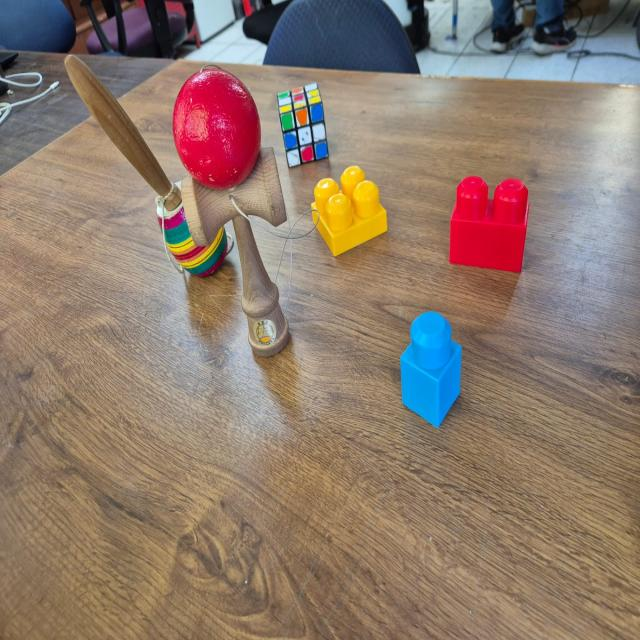balero: (62, 52, 237, 280)
balero ball: (172, 58, 322, 360)
lego 2: (447, 175, 529, 274)
lego 4: (311, 162, 387, 257)
lego_1: (402, 311, 462, 428)
rubick: (275, 82, 330, 168)
